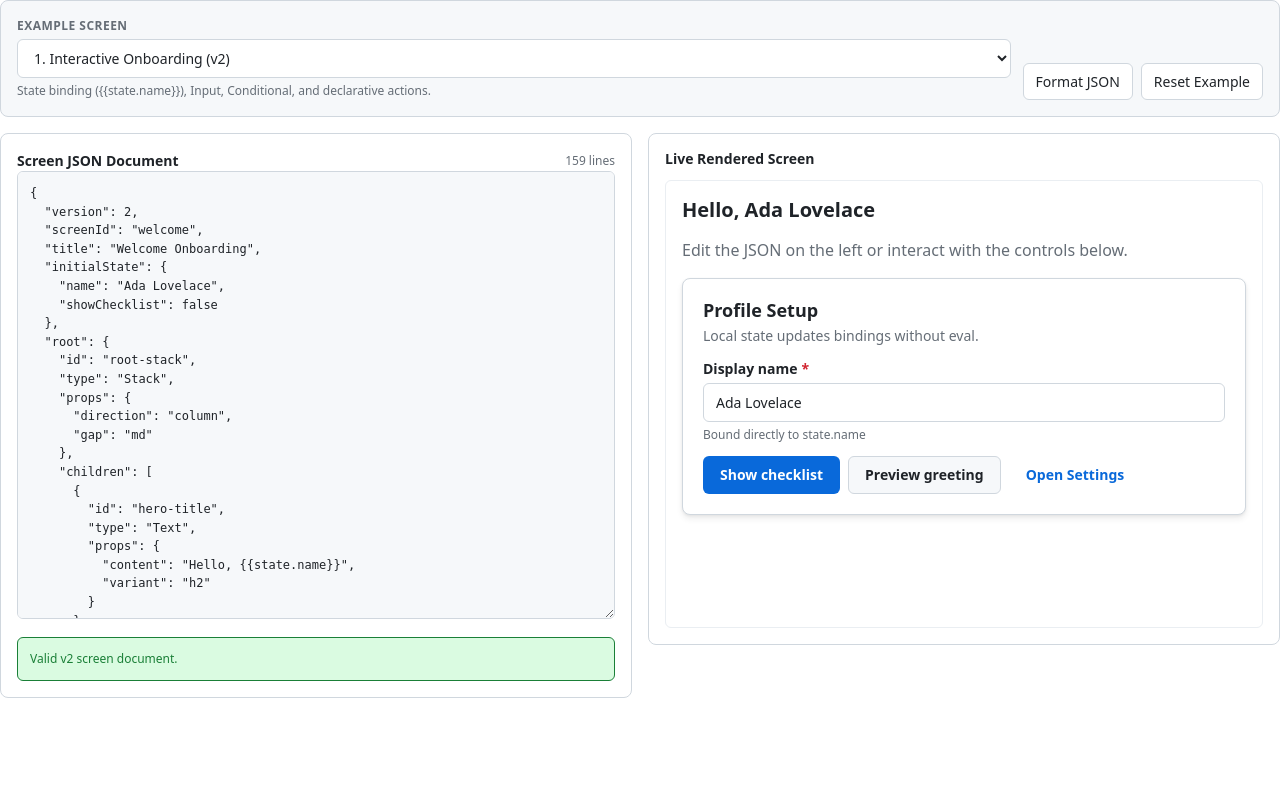
Test: PlaygroundView › switches to "Break It On Purpose" and isolates bad nodes while keeping siblings interactive
Select "5. Break It On Purpose (Isolation)" in the dropdown labelled "Example Screen". click: (514, 58)
box: [17, 39, 1011, 78]
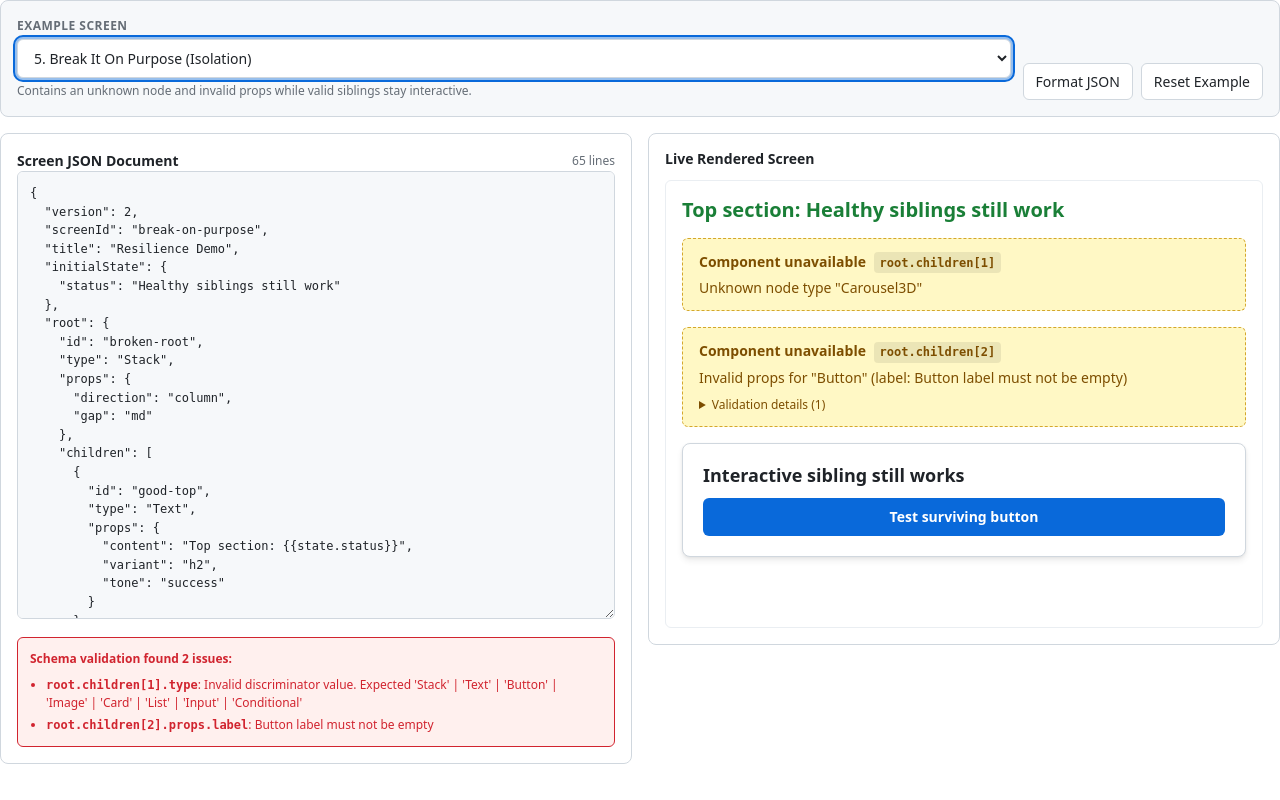
Now the heading "Top section: Healthy siblings still work" is shown, box [682, 196, 1064, 222]
# Surviving sibling button still opens the dialog
Click the button "Test surviving button". click: (964, 517)
box: [703, 498, 1225, 536]
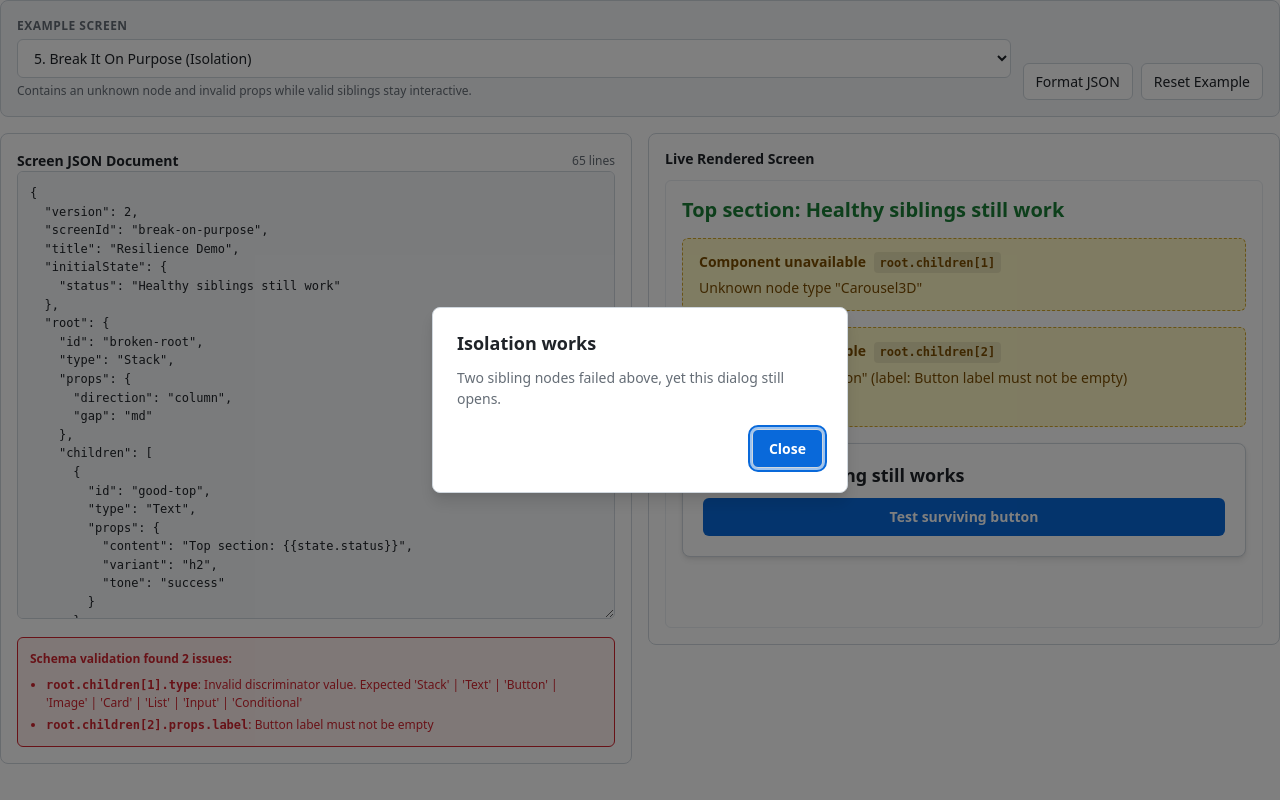
Now the dialog shows "Isolation works", box [457, 331, 596, 355]
